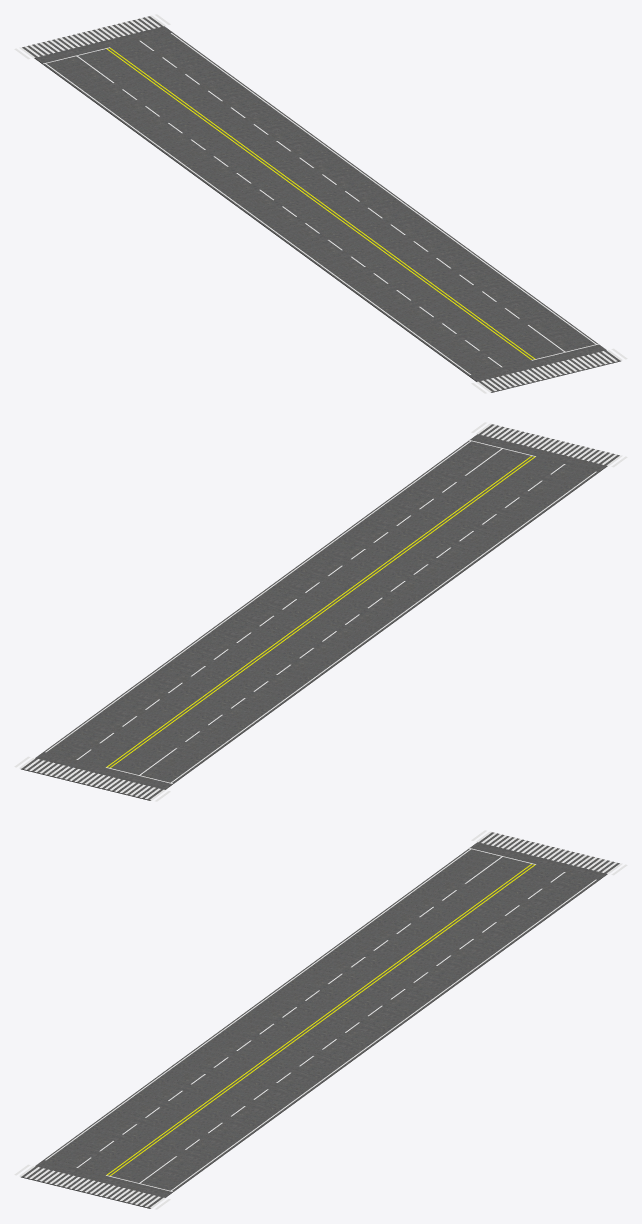
3 renders of one model, top to bottom at view 1: azimuth 30°, elevation 25°; view 2: azimuth 150°, elevation 25°; view 3: azimuth 330°, elevation 25°, orthographic.
Parts seen in each view (by area): view 1: 道路18; view 2: 道路18; view 3: 道路18.
Boxes of the visible parts, x1,y1,x2,y2 form: 道路18: (14,14,627,393); 道路18: (14,422,627,801); 道路18: (14,830,627,1209).
Bounding box in the file's own units: 22.8 × 0.1233 × 130.
3 materials, 1 textured.
